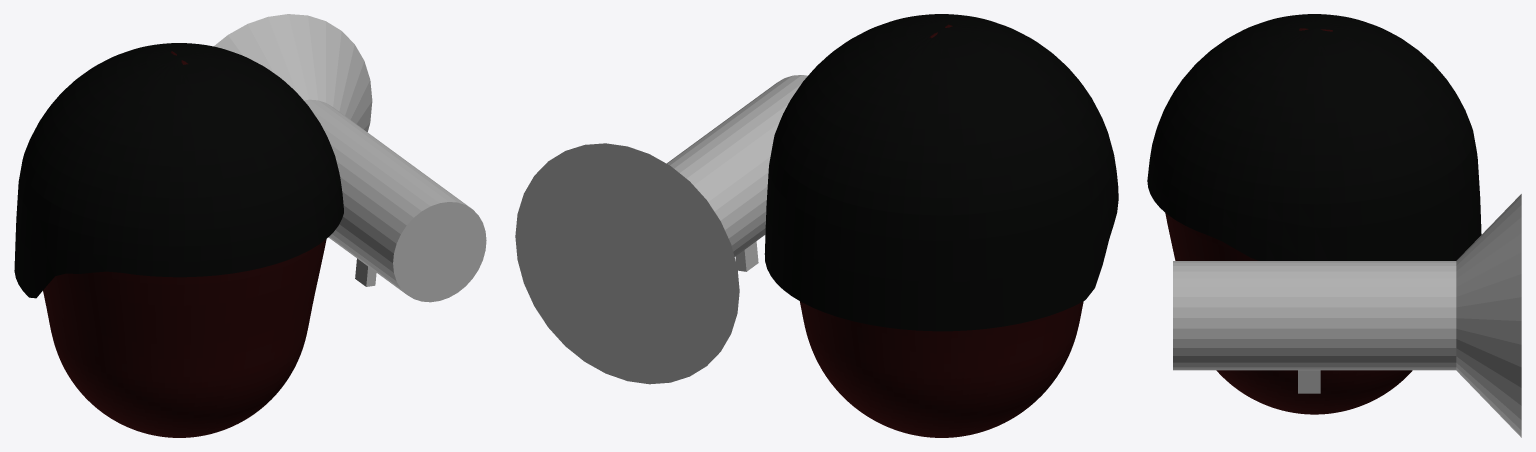
The picture shows the model from 3 angles, left to right: view 1: azimuth 30°, elevation 25°; view 2: azimuth 150°, elevation 25°; view 3: azimuth 270°, elevation 25°; orthographic projection. The views are drawn at different scales.
Visible parts, largest first — view 1: Sphere.001, Sphere, Cylinder; view 2: Sphere.001, Cylinder, Sphere; view 3: Sphere.001, Cylinder, Sphere.
Part boxes in pixels (bbox=[...]): Sphere.001: bbox=[14, 43, 343, 298]; Sphere: bbox=[43, 51, 326, 437]; Cylinder: bbox=[214, 14, 486, 302]; Sphere.001: bbox=[764, 14, 1118, 331]; Cylinder: bbox=[515, 75, 807, 384]; Sphere: bbox=[800, 24, 1083, 437]; Sphere.001: bbox=[1147, 14, 1481, 260]; Cylinder: bbox=[1173, 194, 1521, 437]; Sphere: bbox=[1165, 28, 1412, 414].
Bounding box in the file's own units: 3.05 × 2.45 × 2.23.
